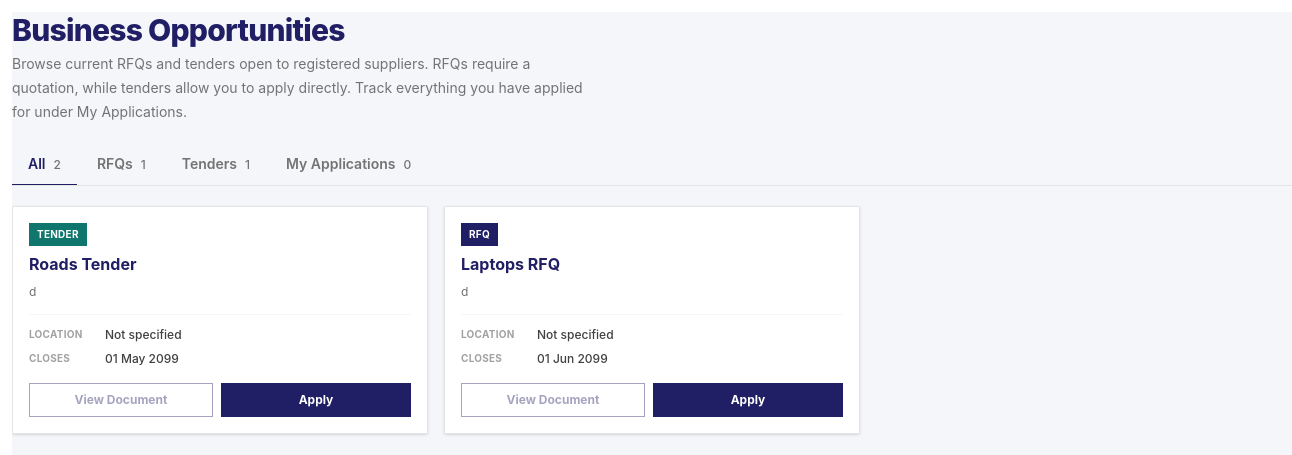
Scenario: Opportunities page › tender apply › posts and flips to Applied
The width and height of the screenshot is (1292, 455).
Check: the heading "Roads Tender" is shown, box [29,254,136,274]
Click the button "Apply" below "01 May 2099": (316,400) [221,383,411,417]
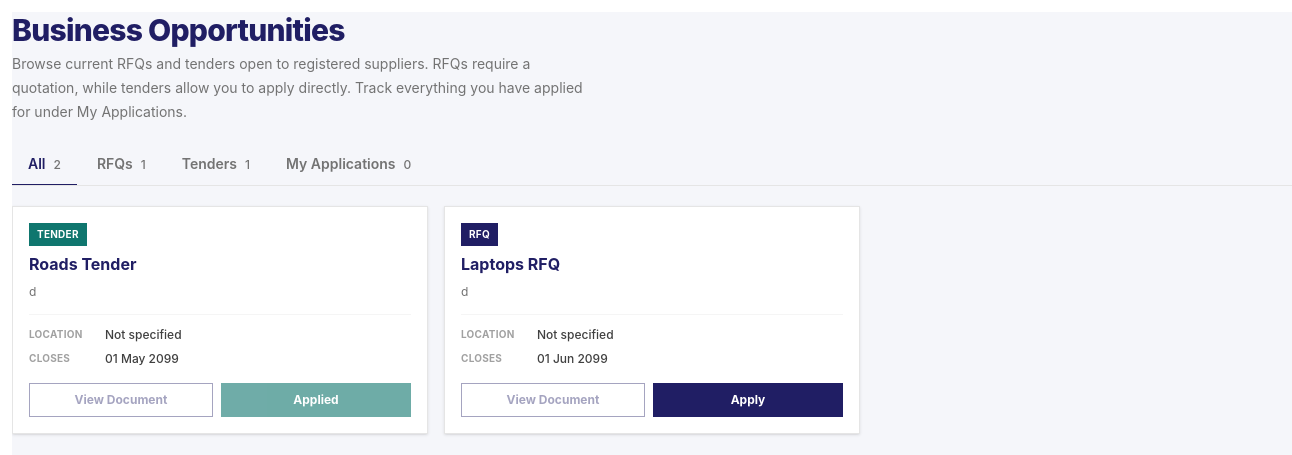
Check: the button "Applied" is shown, box [221,383,411,417]
